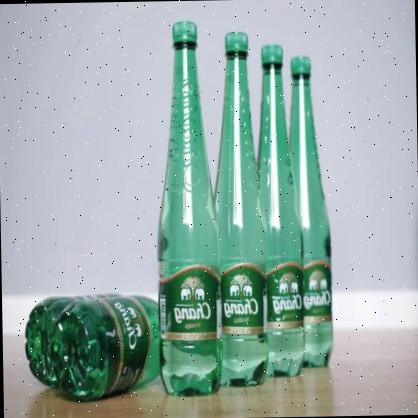bottle: (154, 18, 222, 400), (210, 31, 268, 387), (254, 42, 306, 380)
cap: (260, 42, 283, 70), (172, 21, 198, 44), (224, 31, 248, 55)
label: (159, 262, 219, 344), (221, 264, 267, 340), (267, 262, 304, 336)
